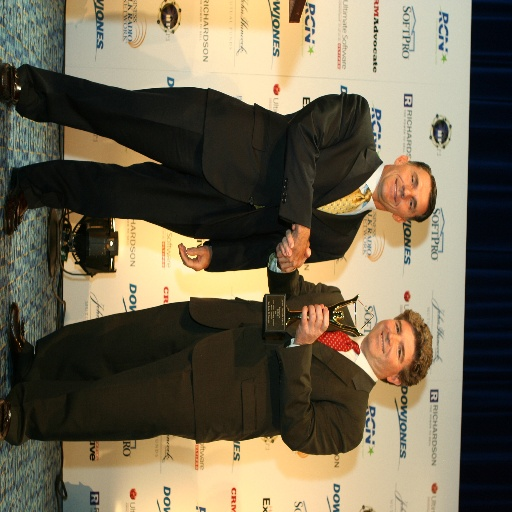hand: (278, 223, 312, 267), (293, 304, 330, 344), (178, 242, 209, 271)
